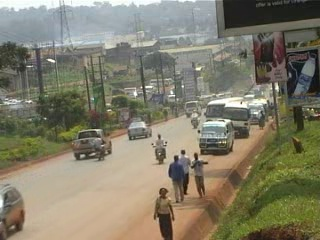Car: (0, 179, 28, 239), (70, 126, 114, 160), (125, 117, 152, 141)
Motorcycle: (152, 140, 167, 164), (94, 146, 106, 162), (191, 117, 198, 128)
